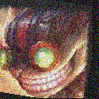Ziggs: (1, 5, 84, 97)
